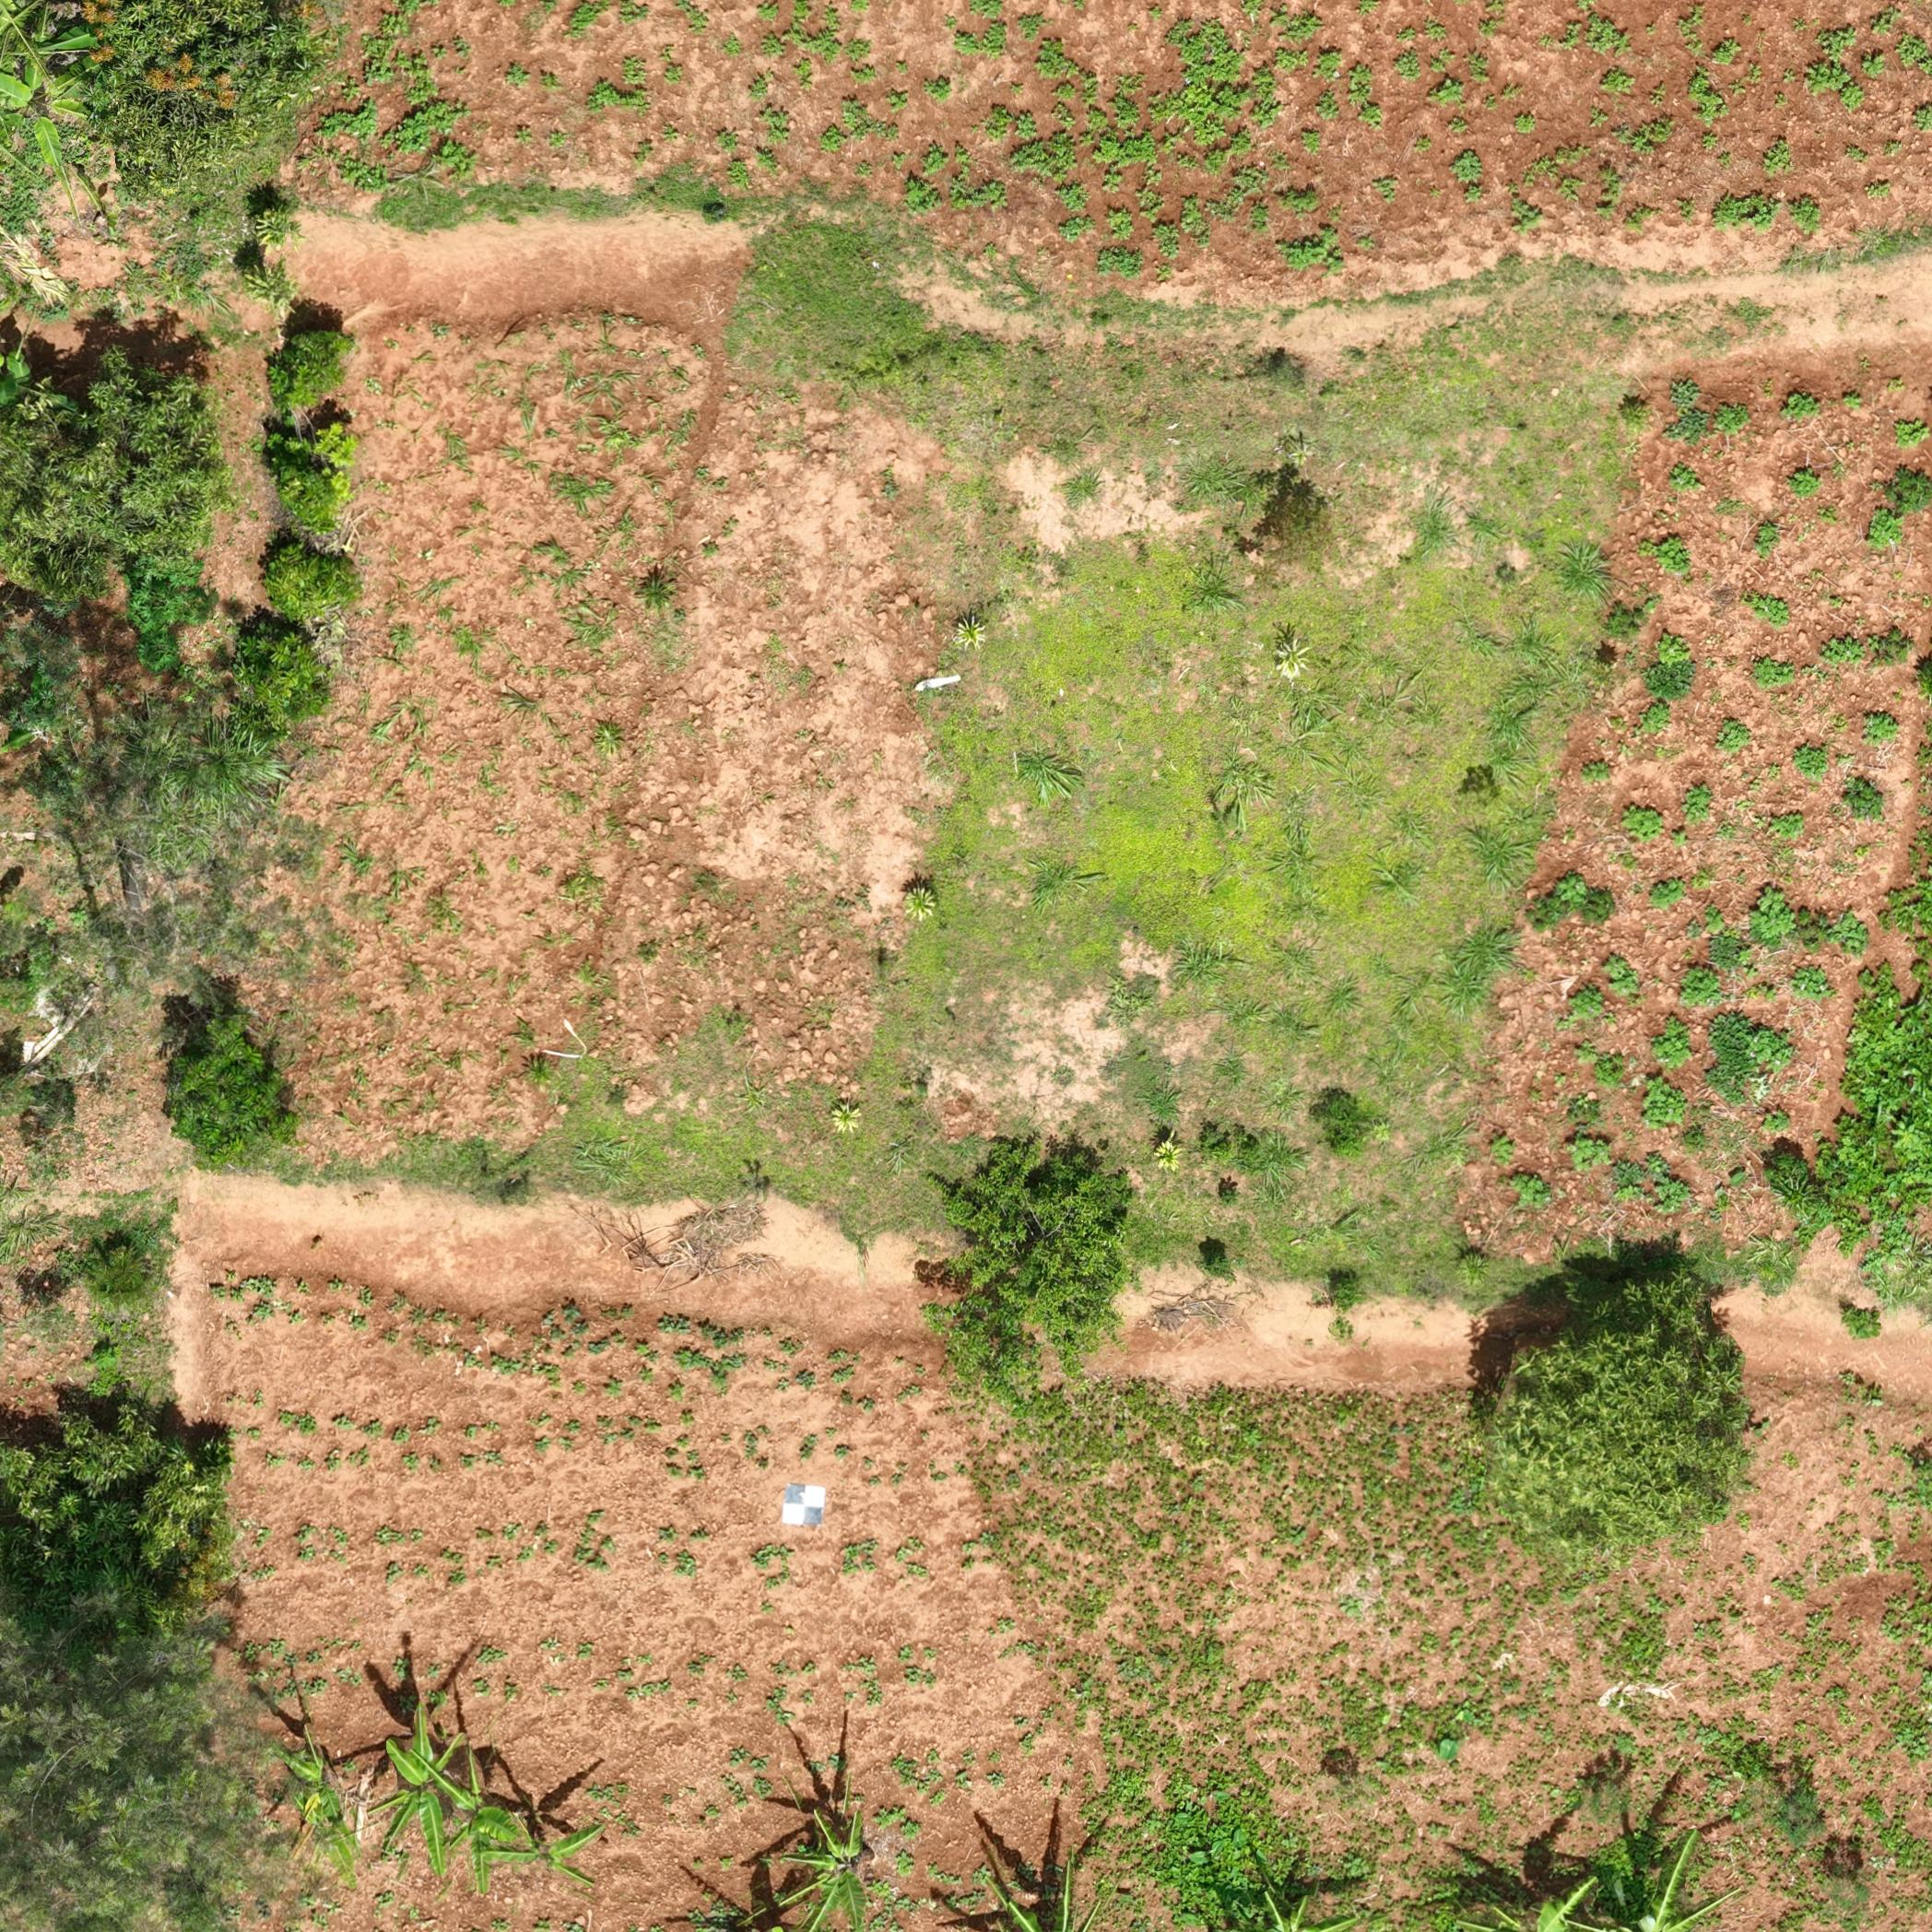Banana: (253, 1713, 386, 1897), (357, 1706, 464, 1891), (766, 1794, 911, 1928), (975, 1822, 1125, 1928), (1247, 1884, 1373, 1928)
